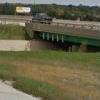Bridge: (28, 7, 95, 49)
